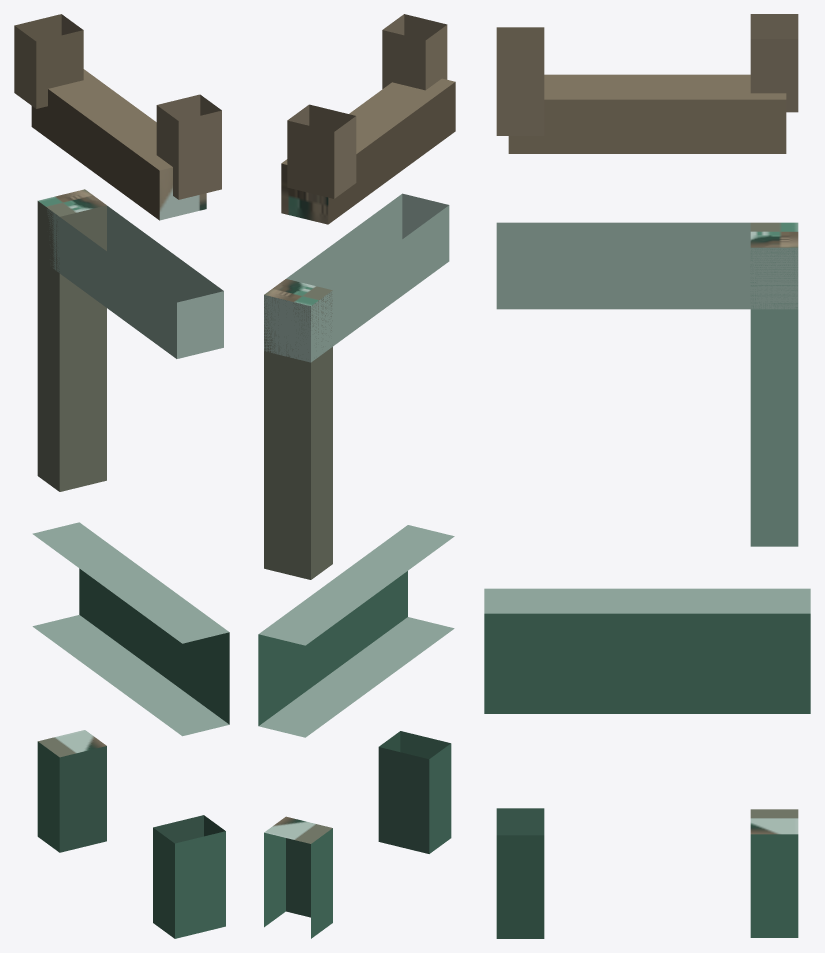
Rendered from section-4.obj.
3 views of the same model, side by side, from view 1: azimuth 30°, elevation 25°; view 2: azimuth 150°, elevation 25°; view 3: azimuth 270°, elevation 25° (orthographic). The views are drawn at different scales.
Bounding box in the file's own units: 0.0929 × 1 × 0.3333.
